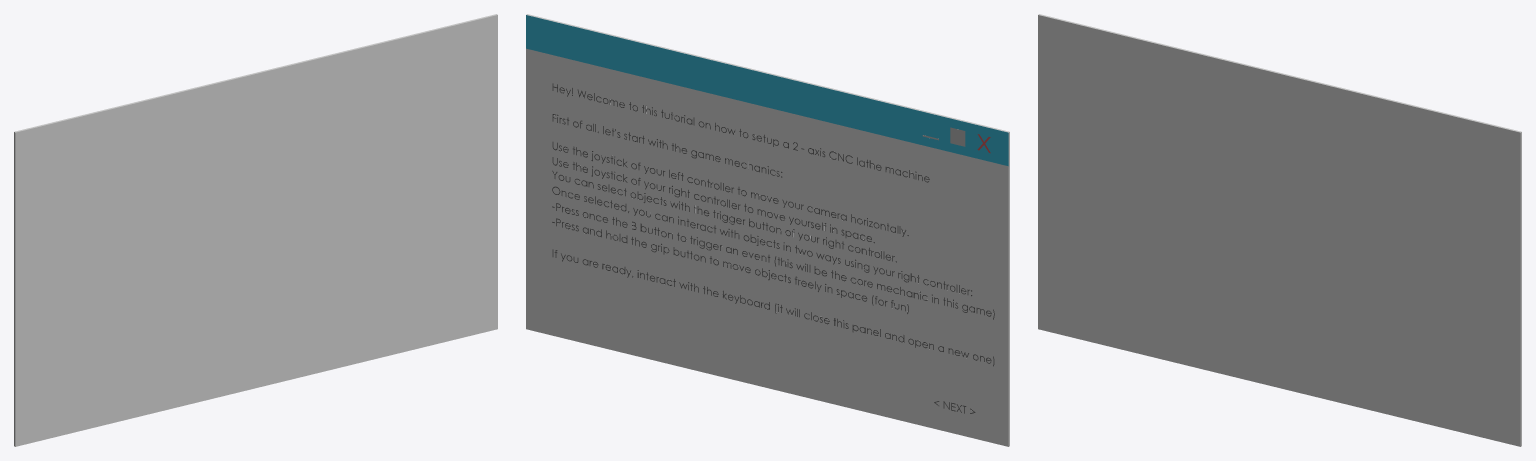
File: WelcomeText.glb
The picture shows the model from 3 angles, left to right: view 1: azimuth 30°, elevation 25°; view 2: azimuth 150°, elevation 25°; view 3: azimuth 330°, elevation 25°; orthographic projection.
Parts seen in each view (by area): view 1: WelcomeText; view 2: WelcomeText; view 3: WelcomeText.
Part boxes in pixels (left/top/right/bottom): WelcomeText: left=14, top=14, right=497, bottom=446; WelcomeText: left=526, top=14, right=1009, bottom=446; WelcomeText: left=1038, top=14, right=1521, bottom=446.
Bounding box in the file's own units: 0.5625 × 0.35 × 0.00251.
